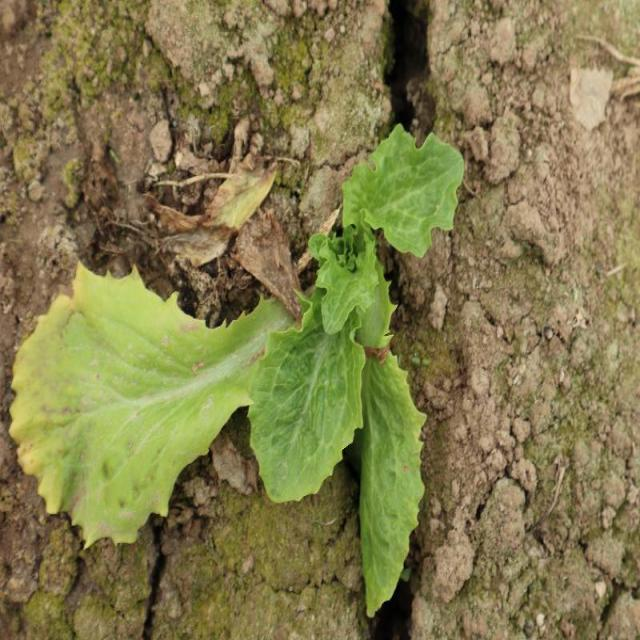crop: (248, 124, 467, 620)
